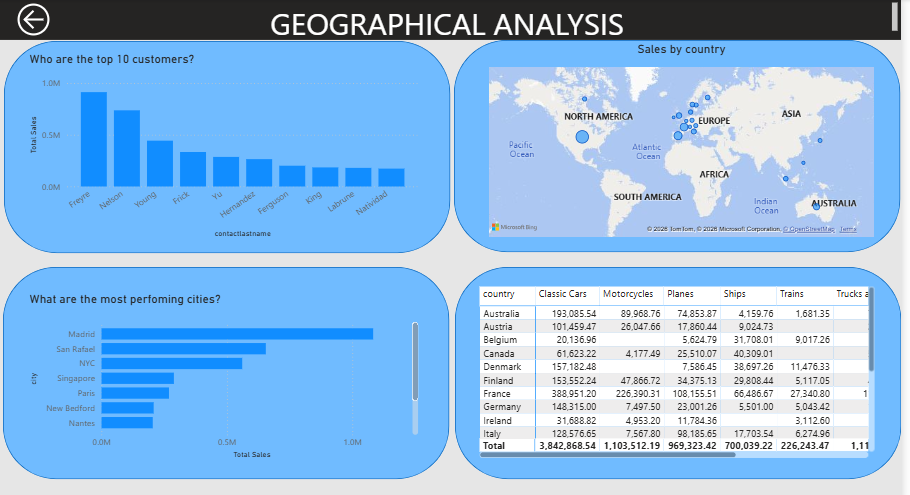

The dashboard page shown, as its layout file describes it:
{"tool":"powerbi","page":{"name":"Geographic Analysis","canvas":[1280,720],"ordinal":3},"visuals":[{"type":"group","id":"g1","title":"Group 1","box":[7.5,58.3,1273.5,622.1],"z":0},{"type":"shape","box":[9.4,60.2,632.6,300.7],"z":0,"group":"g1"},{"type":"textbox","box":[0,0,1279.8,58.1],"z":1000},{"type":"shape","box":[7.5,379.7,632.6,300.7],"z":1000,"group":"g1"},{"type":"shape","box":[646.6,58.3,632.6,300.7],"z":2000,"group":"g1"},{"type":"columnChart","title":"Who are the top 10 customers?","fields":{"Category":["FactSales.contactlastname"],"Y":["Datetable.Total Sales"]},"box":[40.1,74.7,560.8,267.7],"z":2000},{"type":"shape","box":[648.4,379.7,632.6,300.7],"z":3000,"group":"g1"},{"type":"barChart","title":"What are the most perfoming  cities?","fields":{"Category":["FactSales.city"],"Y":["Datetable.Total Sales"]},"box":[40.1,415.1,560.8,240.3],"z":3000},{"type":"map","title":"Sales by country","fields":{"Category":["FactSales.country"],"Size":["Datetable.Total Sales"]},"box":[689.8,60.5,557.3,282.2],"z":4000},{"type":"pivotTable","fields":{"Values":["Datetable.Total Sales"],"Rows":["FactSales.country"],"Columns":["FactSales.productline"]},"box":[677.3,402.4,569.9,253.1],"z":5000},{"type":"actionButton","box":[21.3,0,140.3,58.1],"z":6000}]}

Visuals, with their boxes on the page's 1280x720 design canvas (x1, y1, x2, y2). These are canvas units, not pixel positions in the 910x495 screenshot, which may show the page scaled, cropped or inside an application window:
"Group 1" group: box=[8, 58, 1281, 680]
shape: box=[9, 60, 642, 361]
textbox: box=[0, 0, 1280, 58]
shape: box=[8, 380, 640, 680]
shape: box=[647, 58, 1279, 359]
"Who are the top 10 customers?" columnChart: box=[40, 75, 601, 342]
shape: box=[648, 380, 1281, 680]
"What are the most perfoming  cities?" barChart: box=[40, 415, 601, 655]
"Sales by country" map: box=[690, 60, 1247, 343]
pivotTable - Datetable.Total Sales x FactSales.country: box=[677, 402, 1247, 656]
actionButton: box=[21, 0, 162, 58]
